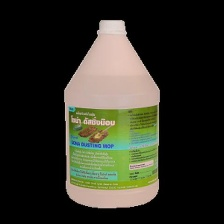cleaning_solution: (59, 15, 162, 212)
